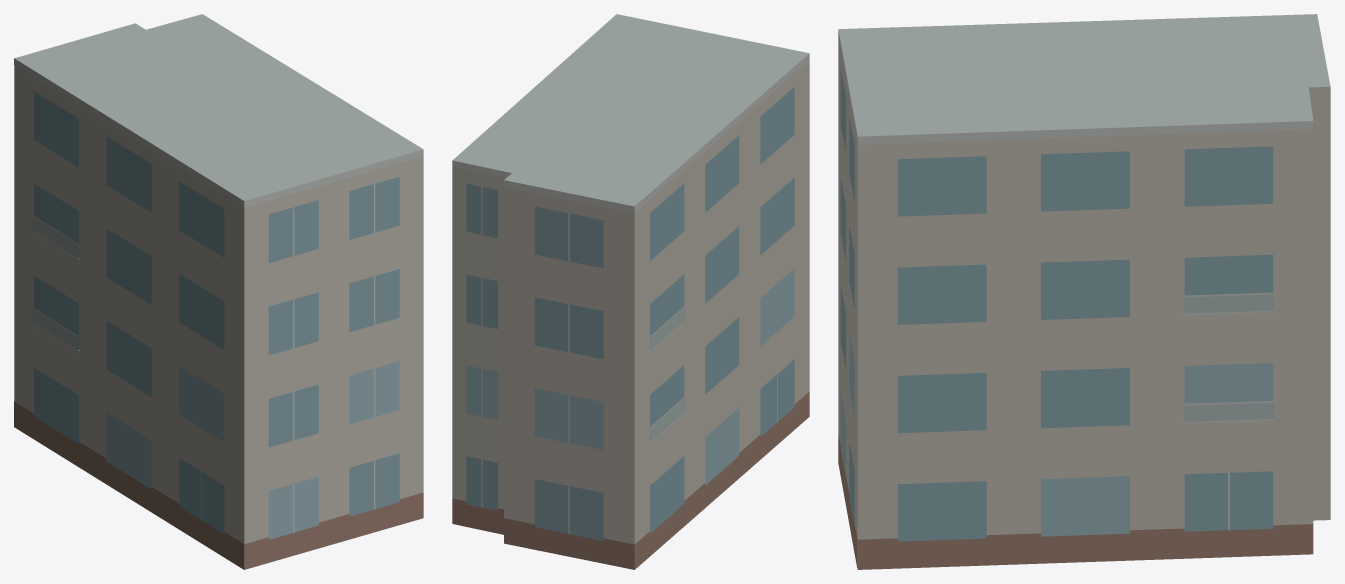
Rendered from survey-upis-32961040.glb.
3 renders of one model, left to right at view 1: azimuth 30°, elevation 25°; view 2: azimuth 150°, elevation 25°; view 3: azimuth 270°, elevation 25°, orthographic. The views are drawn at different scales.
Parts seen in each view (by area): view 1: survey-upis-32961040.tmp; view 2: survey-upis-32961040.tmp; view 3: survey-upis-32961040.tmp.
Boxes of the visible parts, <box> form: survey-upis-32961040.tmp: <box>14,14,423,569</box>; survey-upis-32961040.tmp: <box>452,14,809,569</box>; survey-upis-32961040.tmp: <box>838,14,1330,569</box>.
Size of the model in its own units: 7.99 by 13.15 by 13.55.
